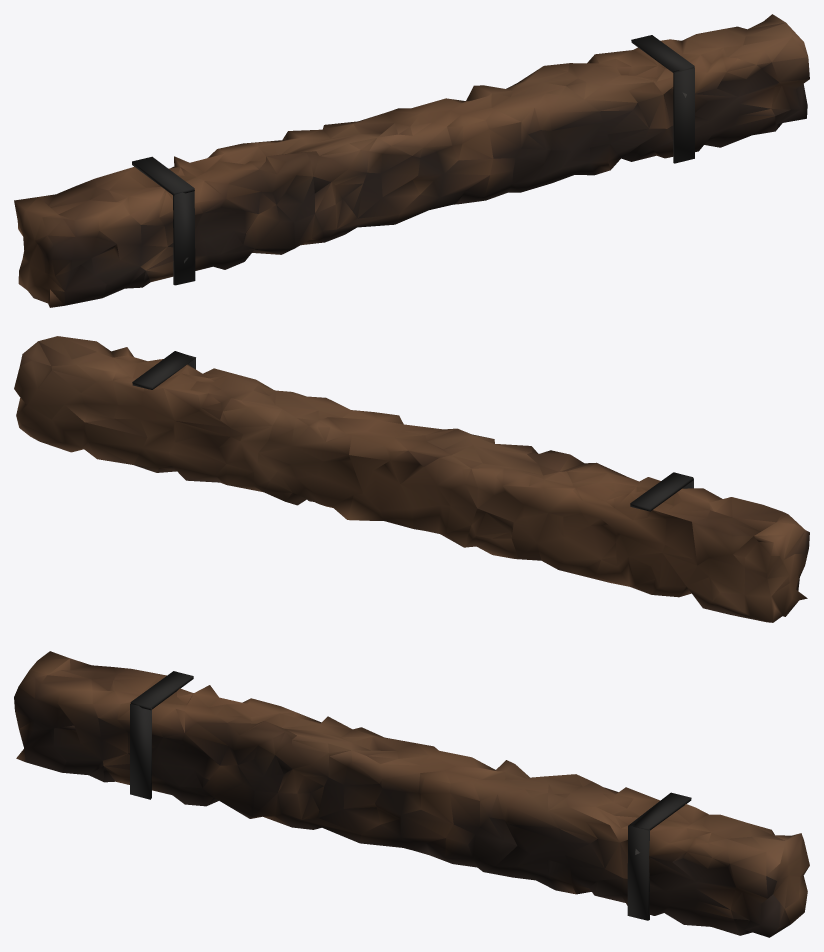
The model's file is ember_lintel_beam_lod2.glb.
The picture shows the model from 3 angles, top to bottom: view 1: azimuth 30°, elevation 25°; view 2: azimuth 150°, elevation 25°; view 3: azimuth 330°, elevation 25°; orthographic projection.
Parts seen in each view (by area): view 1: ember_lintel_beam.001; view 2: ember_lintel_beam.001; view 3: ember_lintel_beam.001.
Boxes of the visible parts, left/top/right/bottom form: ember_lintel_beam.001: left=14, top=14, right=809, bottom=307; ember_lintel_beam.001: left=14, top=336, right=809, bottom=622; ember_lintel_beam.001: left=14, top=651, right=809, bottom=937.
Size of the model in its own units: 110 by 12.99 by 11.4.
